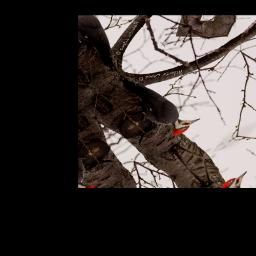Woodpecker: (112, 59, 204, 144)
